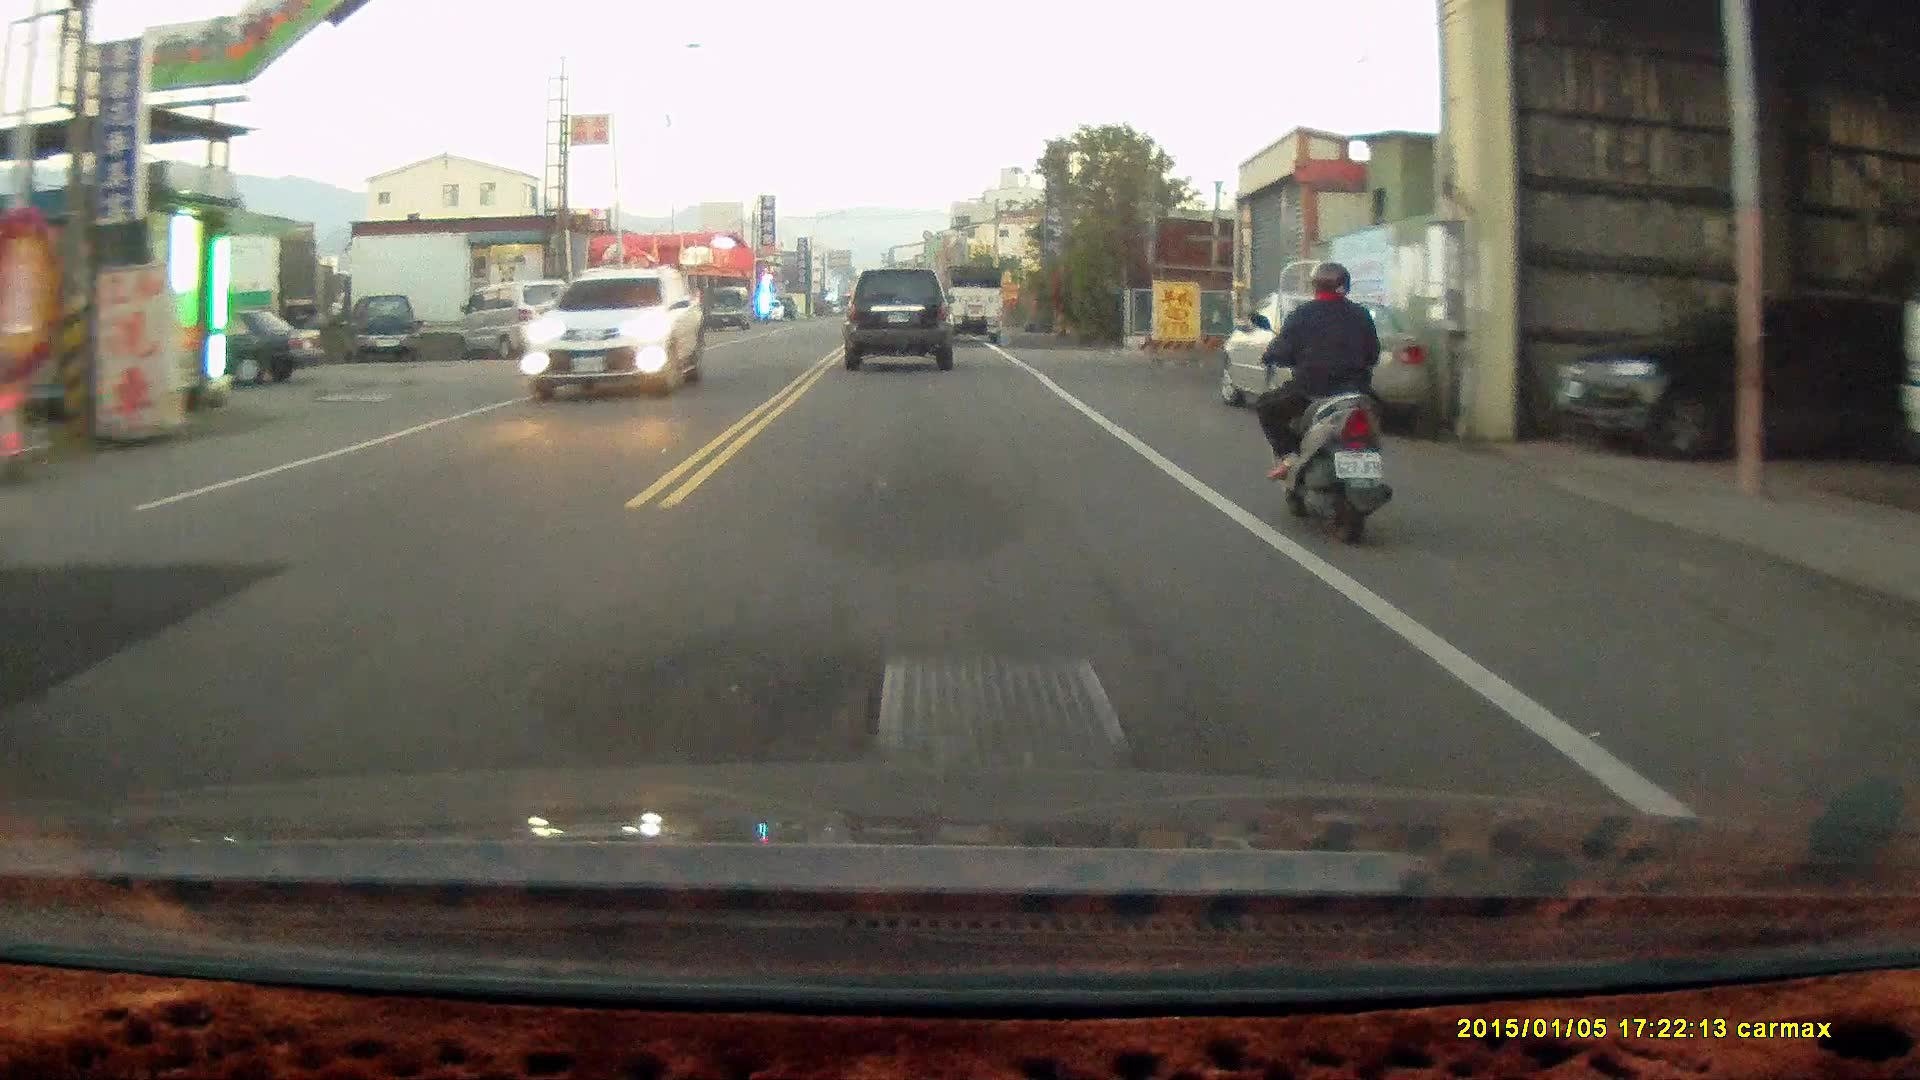rider: (1249, 260, 1394, 547)
vehicle: (1558, 293, 1903, 459), (1217, 293, 1443, 432), (519, 265, 708, 400), (140, 310, 325, 389), (845, 266, 957, 373), (461, 280, 576, 364), (940, 266, 1007, 346), (356, 292, 420, 362)
